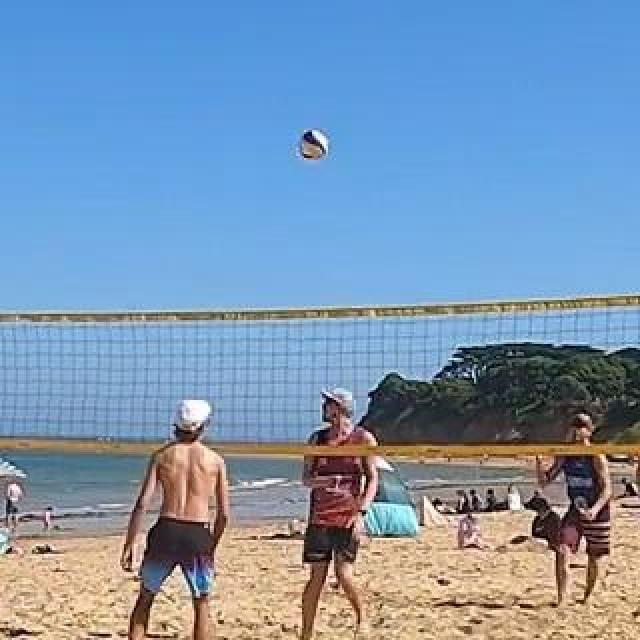volleyball: (298, 129, 328, 159)
